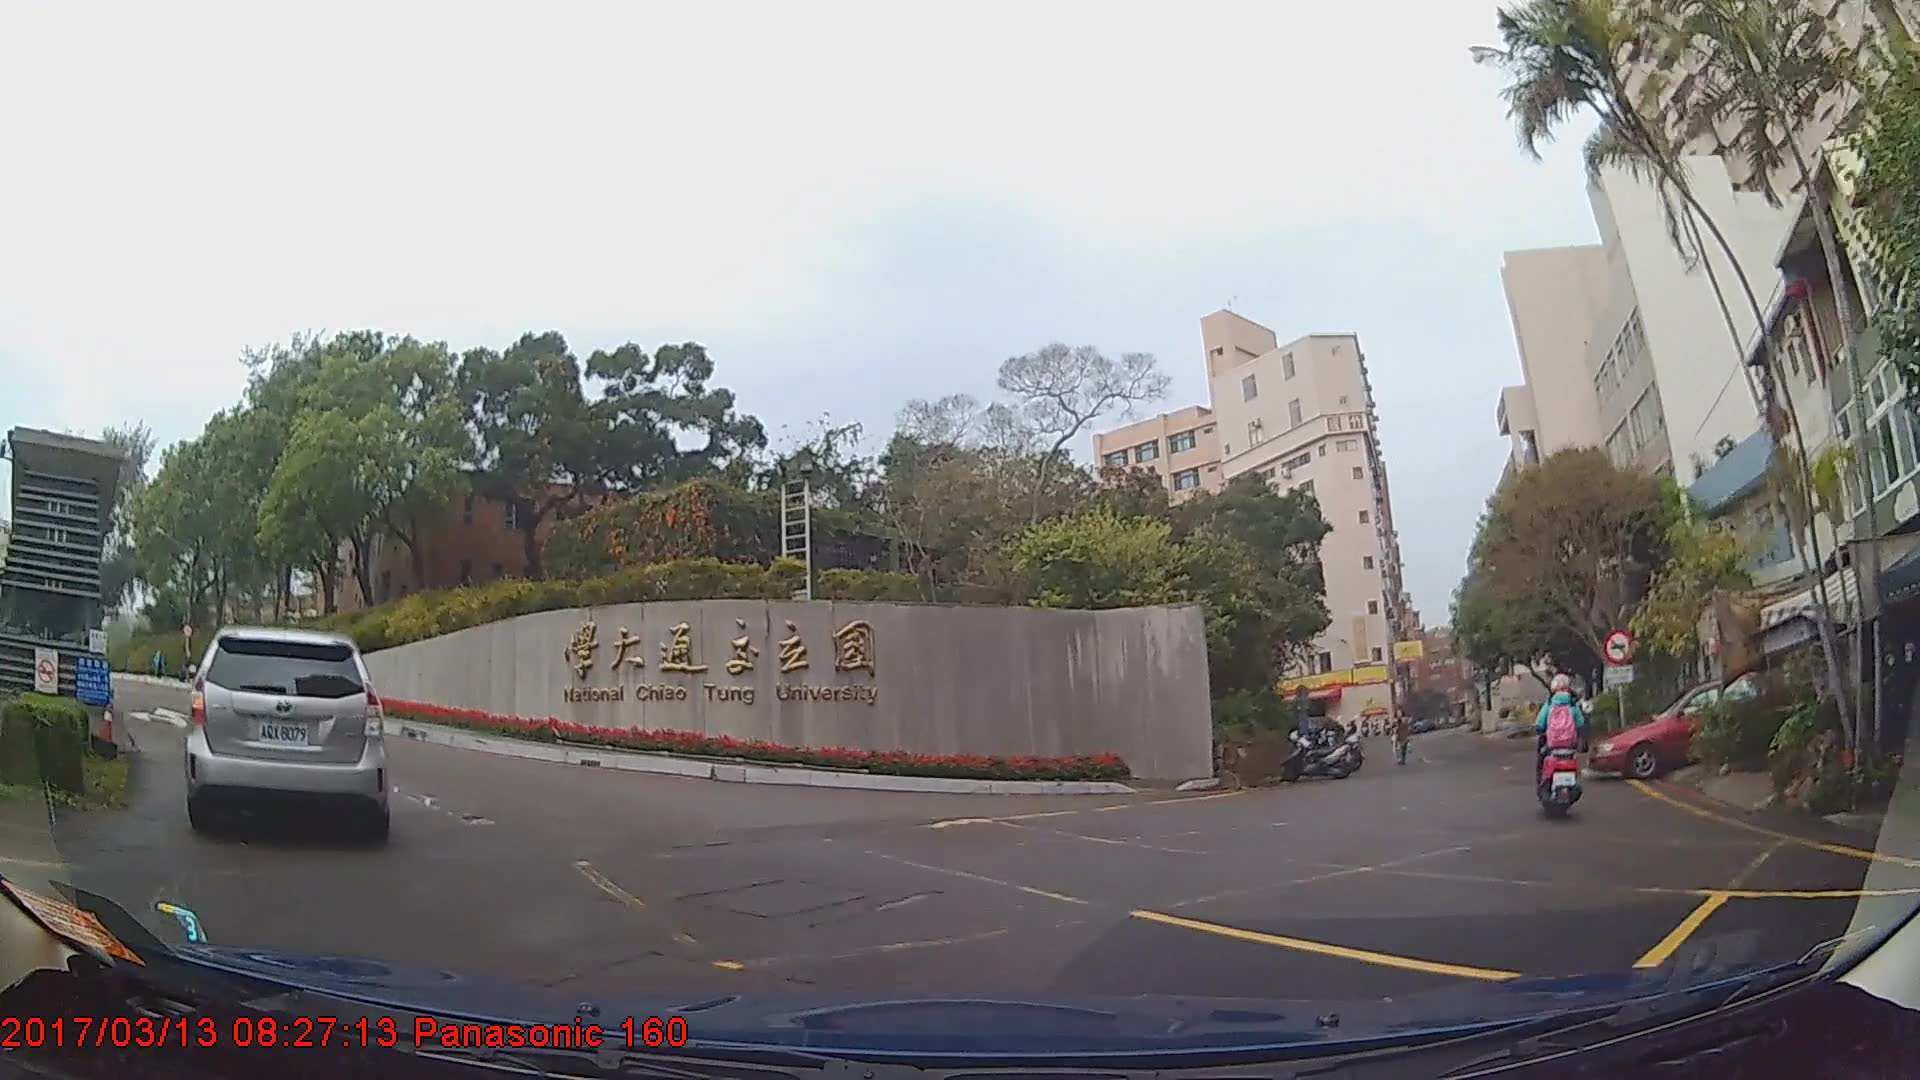pedestrian: (1389, 710, 1414, 769)
rider: (1536, 664, 1586, 816)
vehicle: (185, 625, 389, 845), (1588, 679, 1784, 777)
